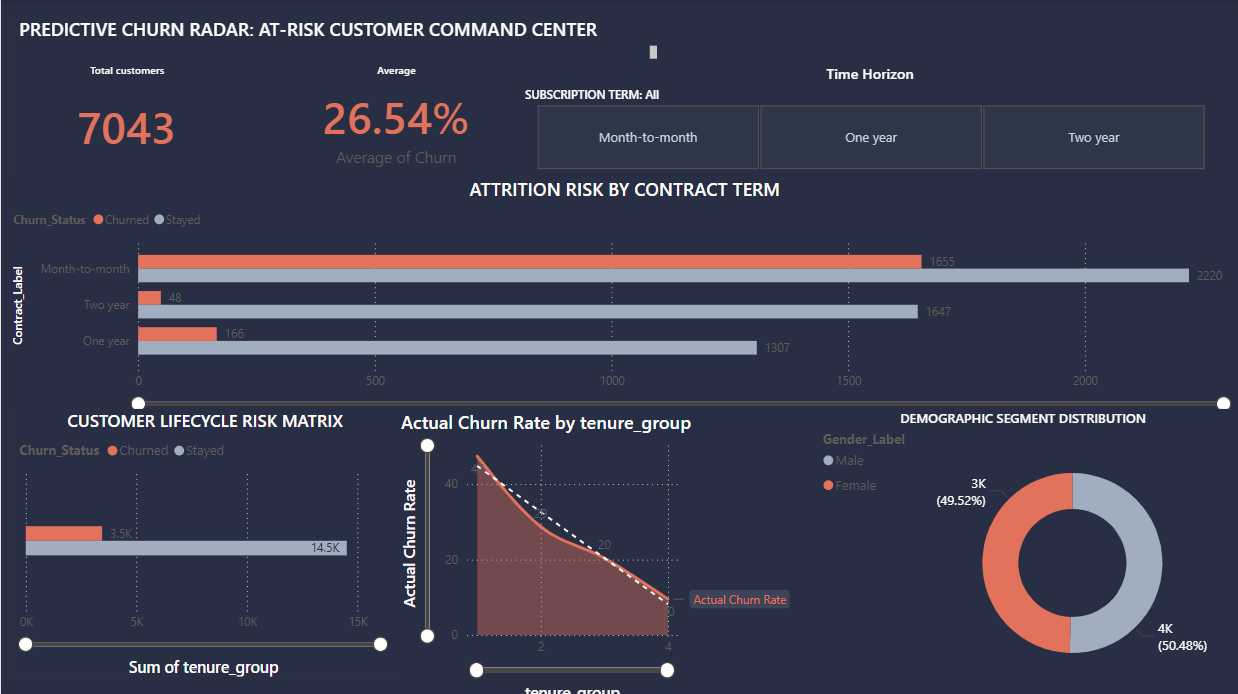

The dashboard page shown, as its layout file describes it:
{"tool":"powerbi","page":{"name":"Page 1","canvas":[1280,720],"ordinal":0},"visuals":[{"type":"textbox","title":"PREDICTIVE CHURN RADAR: AT-RISK CUSTOMER COMMAND CENTER","box":[14,18,664.6,47.9],"z":0},{"type":"card","title":"Total customers ","fields":{"Values":["powerbi_ready_churn.Total Customers"]},"box":[14,65.9,231.5,115.8],"z":1000},{"type":"card","title":"Average","fields":{"Values":["Avg(powerbi_ready_churn.Churn)"]},"box":[285.4,65.9,239.5,115.8],"z":2000},{"type":"clusteredBarChart","title":"ATTRITION RISK BY CONTRACT TERM","fields":{"Category":["powerbi_ready_churn.Contract_Label"],"Y":["powerbi_ready_churn.Total Customers"],"Series":["powerbi_ready_churn.Churn_Status"]},"box":[8,181.6,1265.3,261.4],"z":3000},{"type":"clusteredBarChart","title":"CUSTOMER LIFECYCLE RISK MATRIX","fields":{"Y":["Sum(powerbi_ready_churn.tenure_group)"],"Series":["powerbi_ready_churn.Churn_Status"]},"box":[14,421.1,391.2,273.4],"z":4000},{"type":"donutChart","title":"DEMOGRAPHIC SEGMENT DISTRIBUTION","fields":{"Category":["powerbi_ready_churn.Gender_Label"],"Y":["powerbi_ready_churn.Total Customers"]},"box":[838.2,421.1,421.1,299.4],"z":5000},{"type":"areaChart","fields":{"Category":["powerbi_ready_churn.tenure_group"],"Y":["powerbi_ready_churn.Actual Churn Rate"]},"box":[405.1,421.1,409.1,299.4],"z":6000},{"type":"slicer","title":"Time Horizon","fields":{"Values":["powerbi_ready_churn.Contract_Label"]},"box":[524.9,65.9,734.4,115.8],"z":7000}]}

Visuals, with their boxes in screenshot pixels (x1, y1, x2, y2), scaled from the page's 1280x720 canvas onto the 1238x694 screenshot:
"PREDICTIVE CHURN RADAR: AT-RISK CUSTOMER COMMAND CENTER" textbox: 14, 17, 656, 64
"Total customers " card: 14, 64, 237, 175
"Average" card: 276, 64, 508, 175
"ATTRITION RISK BY CONTRACT TERM" clusteredBarChart: 8, 175, 1232, 427
"CUSTOMER LIFECYCLE RISK MATRIX" clusteredBarChart: 14, 406, 392, 669
"DEMOGRAPHIC SEGMENT DISTRIBUTION" donutChart: 811, 406, 1218, 693
areaChart - powerbi_ready_churn.tenure_group x powerbi_ready_churn.Actual Churn Rate: 392, 406, 787, 693
"Time Horizon" slicer: 508, 64, 1218, 175
